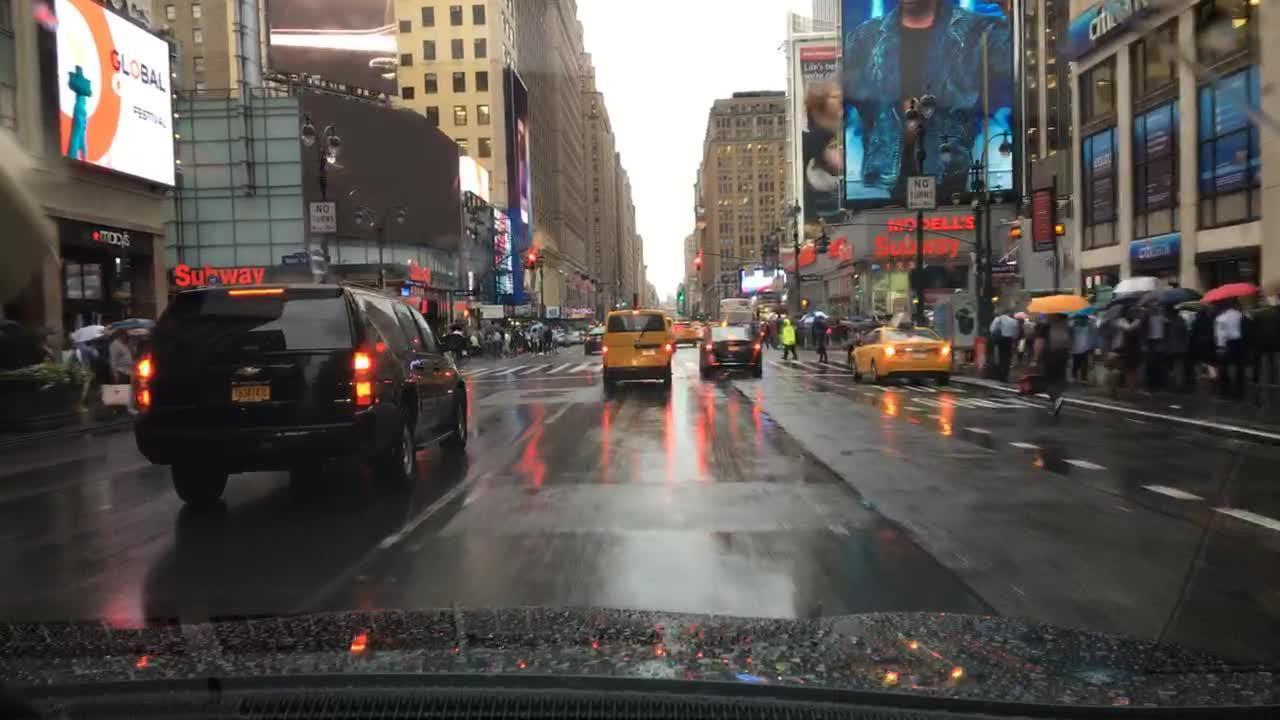chevrolet: (232, 361, 261, 382)
